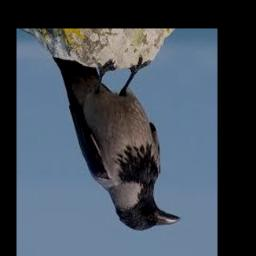Crow: (52, 55, 181, 231)
